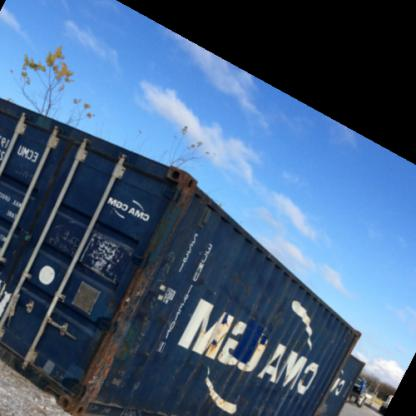Damage: (79, 332, 126, 401), (132, 256, 168, 318), (84, 230, 128, 279), (234, 297, 282, 337), (47, 219, 78, 252), (139, 337, 167, 370), (201, 328, 226, 358), (169, 172, 195, 198), (196, 275, 219, 299)
